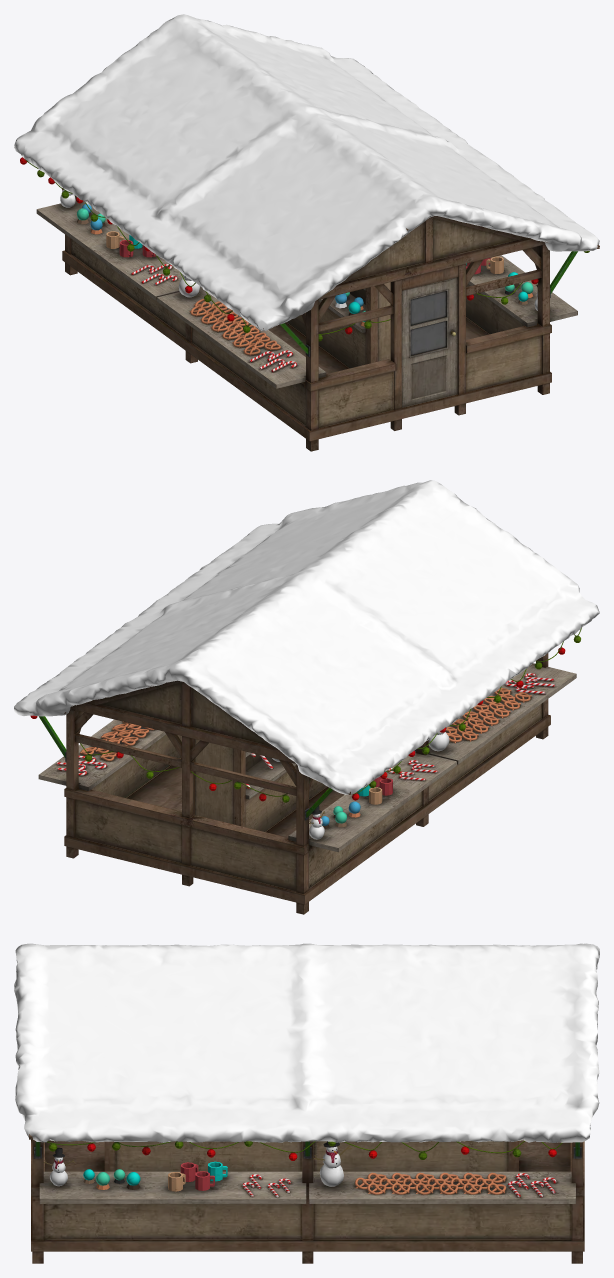
File: christmas-market-optimized.glb
3 renders of one model, top to bottom at view 1: azimuth 30°, elevation 25°; view 2: azimuth 150°, elevation 25°; view 3: azimuth 270°, elevation 25°, orthographic. The views are drawn at different scales.
Parts seen in each view (by area): view 1: anim12:Mesh_lambert1_0, anim12:Mesh_anim4:anim4:lambert8_0, anim12:Mesh_anim4:anim4:lambert11_0, anim12:Mesh_anim4:anim4:lambert9_0, anim12:Mesh_anim4:anim4:lambert12_0; view 2: anim12:Mesh_lambert1_0, anim12:Mesh_anim4:anim4:lambert8_0, anim12:Mesh_anim4:anim4:lambert9_0, anim12:Mesh_anim4:anim4:lambert11_0, anim12:Mesh_anim4:anim4:lambert12_0; view 3: anim12:Mesh_lambert1_0, anim12:Mesh_anim4:anim4:lambert8_0, anim12:Mesh_anim4:anim4:lambert11_0, anim12:Mesh_anim4:anim4:lambert12_0, anim12:Mesh_anim4:anim4:lambert9_0.
Boxes of the visible parts, x1,y1,x2,y2 form: anim12:Mesh_lambert1_0: (14,14,599,330); anim12:Mesh_anim4:anim4:lambert8_0: (62,217,551,441); anim12:Mesh_anim4:anim4:lambert11_0: (36,200,577,407); anim12:Mesh_anim4:anim4:lambert9_0: (14,147,599,451); anim12:Mesh_anim4:anim4:lambert12_0: (60,188,537,372); anim12:Mesh_lambert1_0: (14,480,599,794); anim12:Mesh_anim4:anim4:lambert8_0: (64,682,550,904); anim12:Mesh_anim4:anim4:lambert9_0: (30,628,581,914); anim12:Mesh_anim4:anim4:lambert11_0: (38,663,576,852); anim12:Mesh_anim4:anim4:lambert12_0: (57,673,554,839); anim12:Mesh_lambert1_0: (14,943,599,1142); anim12:Mesh_anim4:anim4:lambert8_0: (31,1139,584,1251); anim12:Mesh_anim4:anim4:lambert11_0: (39,1141,575,1203); anim12:Mesh_anim4:anim4:lambert12_0: (43,1141,556,1197); anim12:Mesh_anim4:anim4:lambert9_0: (29,1134,584,1263).
Bounding box in the file's own units: 6.09 × 3.8 × 7.99.
6 materials, 5 textured.
